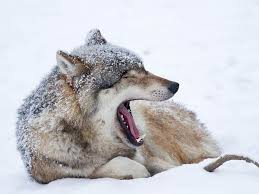wolf: (9, 37, 222, 177)
